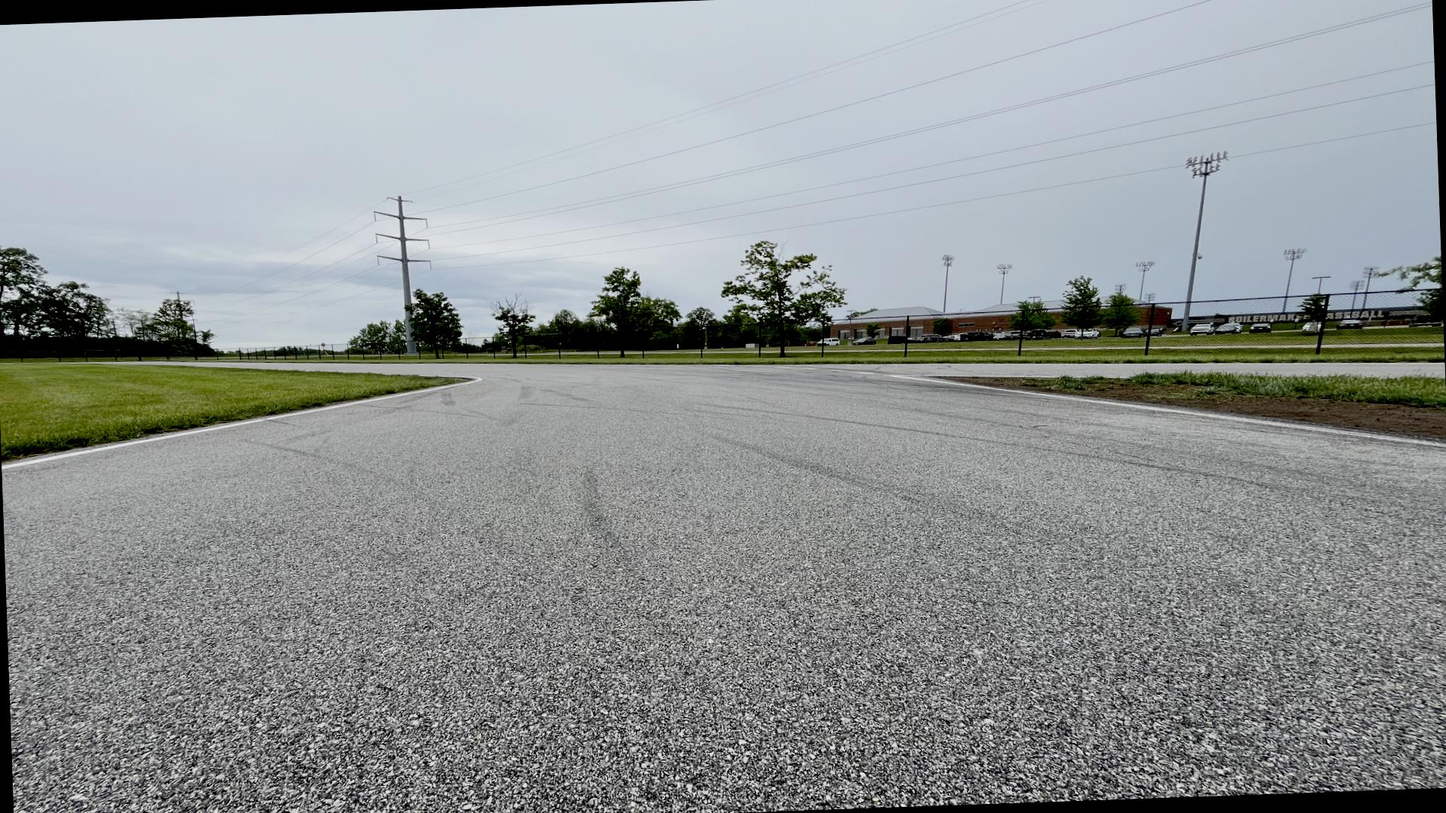white-line: (2, 376, 483, 469), (885, 375, 1445, 448), (880, 363, 1444, 365), (856, 372, 874, 375), (832, 369, 845, 372)
